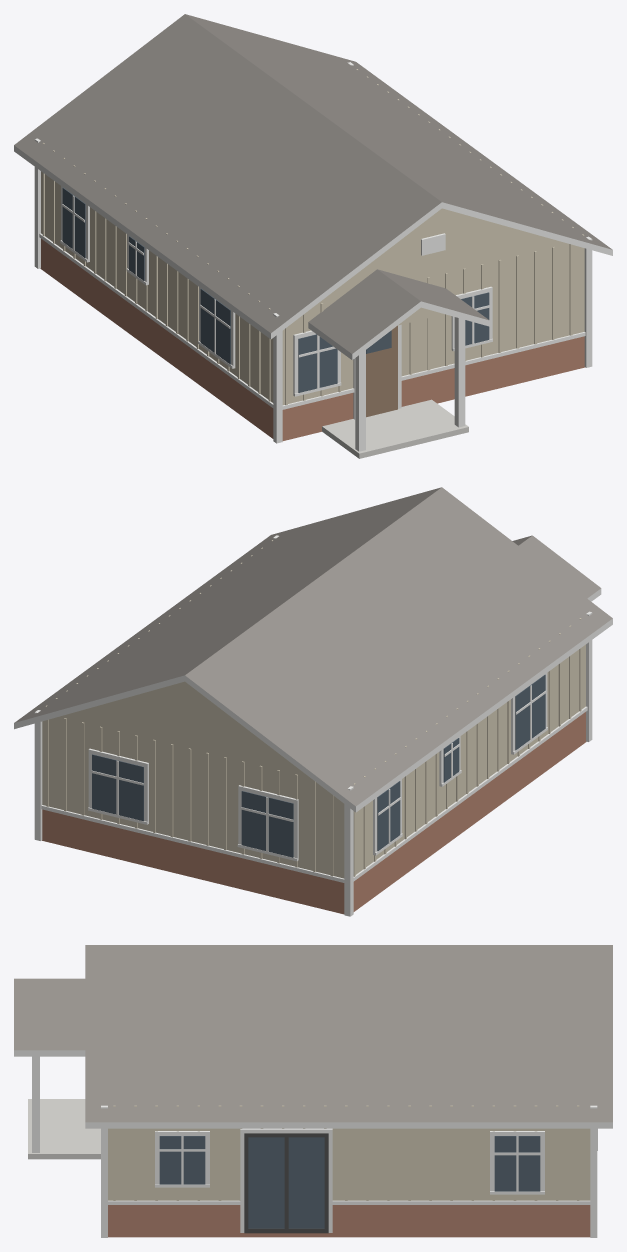
The model's file is walnut-craftsman.glb.
The picture shows the model from 3 angles, top to bottom: view 1: azimuth 30°, elevation 25°; view 2: azimuth 150°, elevation 25°; view 3: azimuth 270°, elevation 25°; orthographic projection. The views are drawn at different scales.
Parts seen in each view (by area): view 1: The Walnut (craftsman); view 2: The Walnut (craftsman); view 3: The Walnut (craftsman).
Part boxes in pixels (bbox=[...]): The Walnut (craftsman): bbox=[14, 14, 612, 458]; The Walnut (craftsman): bbox=[14, 487, 612, 916]; The Walnut (craftsman): bbox=[14, 945, 612, 1237].
Bounding box in the file's own units: 8.08 × 4.72 × 11.94.
